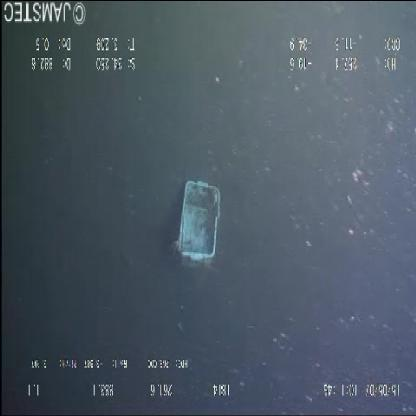Rác: (167, 168, 224, 271)
